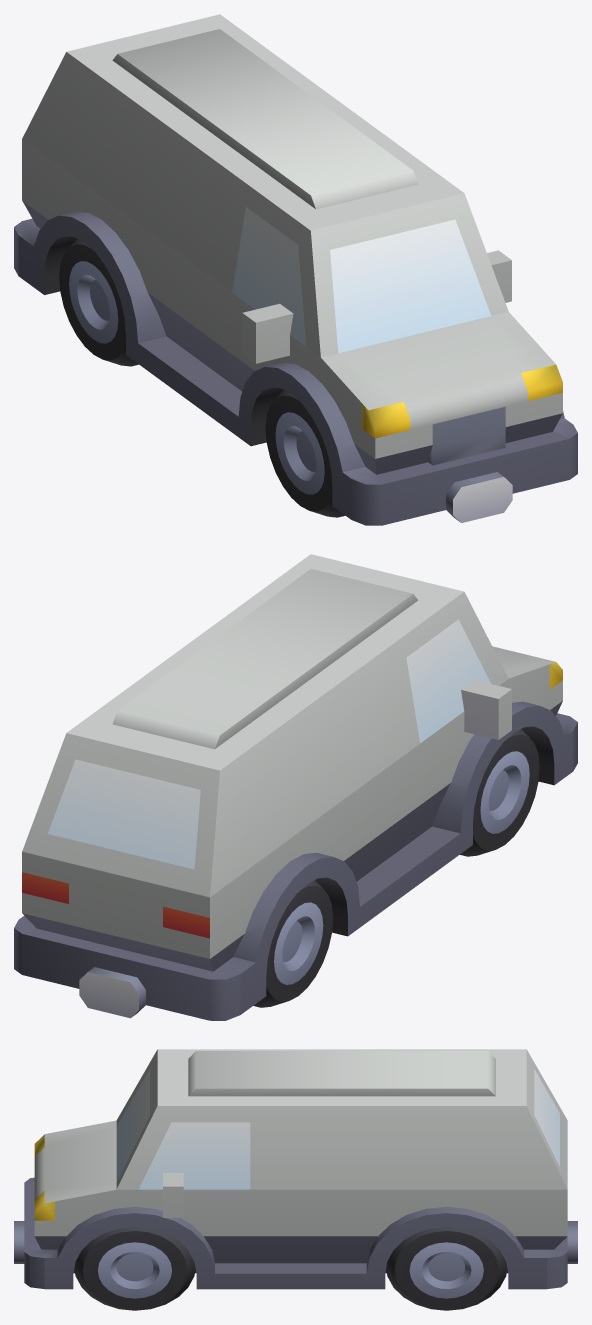
File: van-white.glb
3 views of the same model, one above another, from view 1: azimuth 30°, elevation 25°; view 2: azimuth 150°, elevation 25°; view 3: azimuth 270°, elevation 25° (orthographic). The views are drawn at different scales.
Visible parts, largest first — view 1: van; view 2: van; view 3: van.
Part boxes in pixels (x1,y1,x2,y2): van: (14, 14, 577, 525); van: (14, 554, 577, 1020); van: (14, 1049, 577, 1310).
Size of the model in its own units: 1.98 by 2.05 by 5.
Materials: 1 (1 with a texture image).
